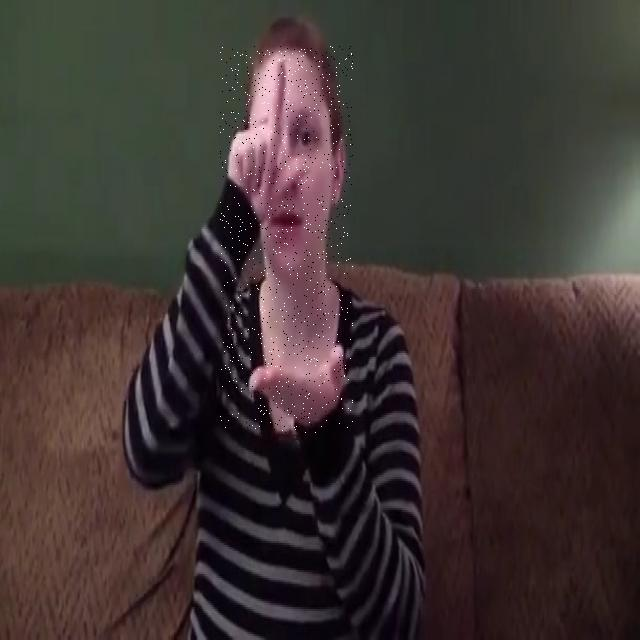chicken: (220, 46, 353, 434)
